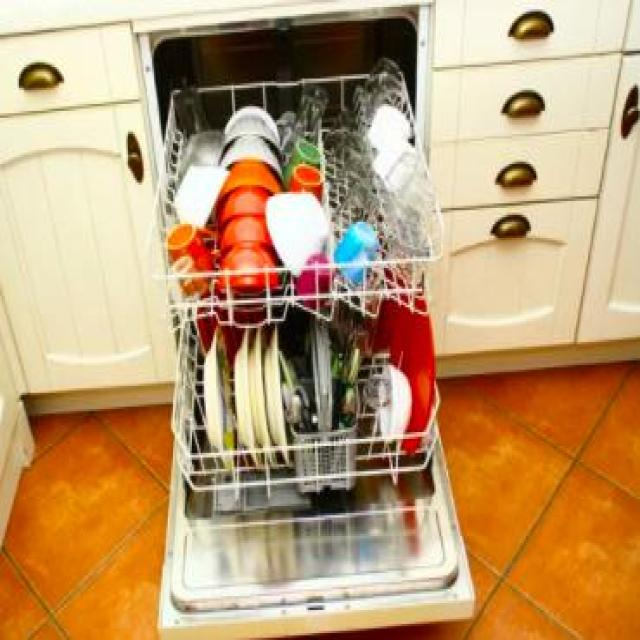dishwasher: (128, 18, 476, 640)
